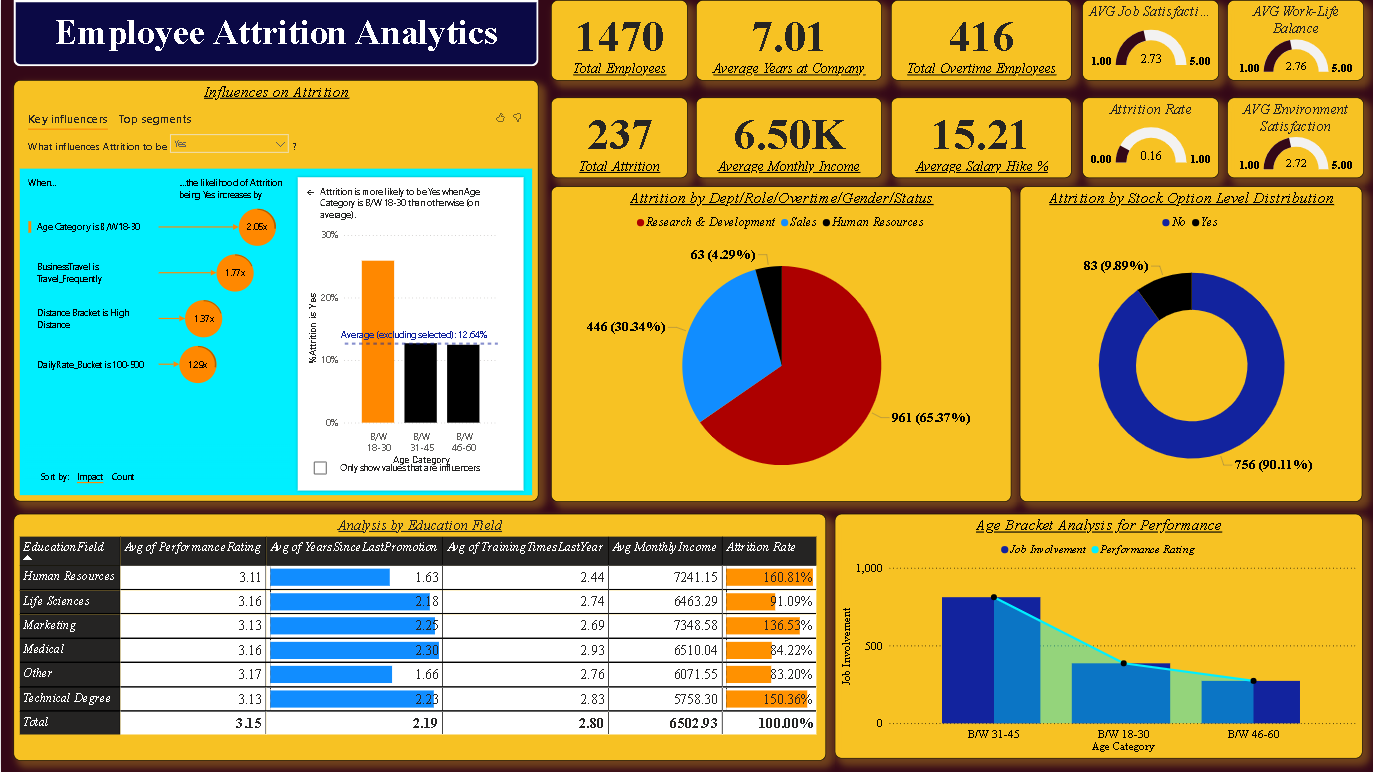

The page's visual inventory and layout, read from the dashboard file:
{"tool":"powerbi","page":{"name":"Page 1","canvas":[1920,1080],"ordinal":0},"visuals":[{"type":"card","fields":{"Values":["Measures (2).Total Attrition"]},"box":[769.1,136.4,190.9,112.7],"z":0},{"type":"card","fields":{"Values":["Measures (2).Average Monthly Income"]},"box":[972.7,136.4,260,112.7],"z":1000},{"type":"card","fields":{"Values":["Measures (2).Total Overtime Employees"]},"box":[1245.5,0,252.7,112.7],"z":2000},{"type":"card","fields":{"Values":["Measures (2).Average Salary Hike Percentage"]},"box":[1245.5,136.4,252.7,112.7],"z":3000},{"type":"card","fields":{"Values":["Measures (2).Total Employees"]},"box":[769.1,0,190.9,112.7],"z":4000},{"type":"card","fields":{"Values":["Measures (2).Average Years at Company"]},"box":[972.7,0,260,112.7],"z":5000},{"type":"gauge","fields":{"Y":["Measures (2).Average Work-Life Balance"]},"box":[1716.4,0,190.9,112.7],"z":6000},{"type":"gauge","fields":{"Y":["Measures (2).Average Job Satisfaction"]},"box":[1512.7,0,190.9,112.7],"z":7000},{"type":"gauge","fields":{"Y":["Measures (2).Average Environment Satisfaction"]},"box":[1716.4,136.4,190.9,112.7],"z":8000},{"type":"gauge","fields":{"Y":["Measures (2).Attrition Rate"]},"box":[1512.7,136.4,190.9,112.7],"z":9000},{"type":"pieChart","title":"Attrition by Dept/Role/Overtime/Gender/Status","fields":{"Category":["HR-Employee-Attrition.Department","HR-Employee-Attrition.JobRole","HR-Employee-Attrition.OverTime","HR-Employee-Attrition.Gender","HR-Employee-Attrition.MaritalStatus"],"Y":["CountNonNull(HR-Employee-Attrition.Attrition)"]},"box":[769.1,260.6,644.2,441.6],"z":10000},{"type":"shape","box":[18.2,0,734.5,92.7],"z":11000},{"type":"lineClusteredColumnComboChart","title":"Age Bracket Analysis for Performance","fields":{"Category":["HR-Employee-Attrition.Age Category"],"Y":["CountNonNull(HR-Employee-Attrition.JobInvolvement)"],"Y2":["CountNonNull(HR-Employee-Attrition.PerformanceRating)"]},"box":[1167.2,718.4,738.3,342],"z":12000},{"type":"donutChart","title":"Attrition by Stock Option Level Distribution  ","fields":{"Category":["HR-Employee-Attrition.Attrition"],"Y":["Measures (2).Stock Option Level Distribution"]},"box":[1426,260.6,479.6,441.6],"z":13000},{"type":"keyDriversVisual","title":"Influences on Attrition","fields":{"Target":["HR-Employee-Attrition.Attrition"],"ExplainBy":["HR-Employee-Attrition.BusinessTravel","Attrition Emp (4).DailyRate_Bucket","HR-Employee-Attrition.Distance Bracket","HR-Employee-Attrition.Age Category"]},"box":[18.1,112.2,734.7,590],"z":14000},{"type":"pivotTable","title":"Analysis by Education Field","fields":{"Rows":["HR-Employee-Attrition.EducationField"],"Values":["Avg(HR-Employee-Attrition.PerformanceRating)","Avg(HR-Employee-Attrition.YearsSinceLastPromotion)","Avg(HR-Employee-Attrition.TrainingTimesLastYear)","Avg(HR-Employee-Attrition.MonthlyIncome)","Measures (2).Attrition Rate"]},"box":[18.1,718.4,1136.5,345.6],"z":15000}]}

Visuals, with their boxes in screenshot pixels (x1, y1, x2, y2), scaled from the page's 1920x1080 canvas onto the 1373x772 screenshot:
card - Measures (2).Total Attrition: rect(550, 98, 686, 178)
card - Measures (2).Average Monthly Income: rect(696, 98, 882, 178)
card - Measures (2).Total Overtime Employees: rect(891, 0, 1071, 81)
card - Measures (2).Average Salary Hike Percentage: rect(891, 98, 1071, 178)
card - Measures (2).Total Employees: rect(550, 0, 686, 81)
card - Measures (2).Average Years at Company: rect(696, 0, 882, 81)
gauge - Measures (2).Average Work-Life Balance: rect(1227, 0, 1364, 81)
gauge - Measures (2).Average Job Satisfaction: rect(1082, 0, 1218, 81)
gauge - Measures (2).Average Environment Satisfaction: rect(1227, 98, 1364, 178)
gauge - Measures (2).Attrition Rate: rect(1082, 98, 1218, 178)
"Attrition by Dept/Role/Overtime/Gender/Status" pieChart: rect(550, 186, 1011, 502)
shape: rect(13, 0, 538, 66)
"Age Bracket Analysis for Performance" lineClusteredColumnComboChart: rect(835, 514, 1363, 758)
"Attrition by Stock Option Level Distribution  " donutChart: rect(1020, 186, 1363, 502)
"Influences on Attrition" keyDriversVisual: rect(13, 80, 538, 502)
"Analysis by Education Field" pivotTable: rect(13, 514, 826, 761)
